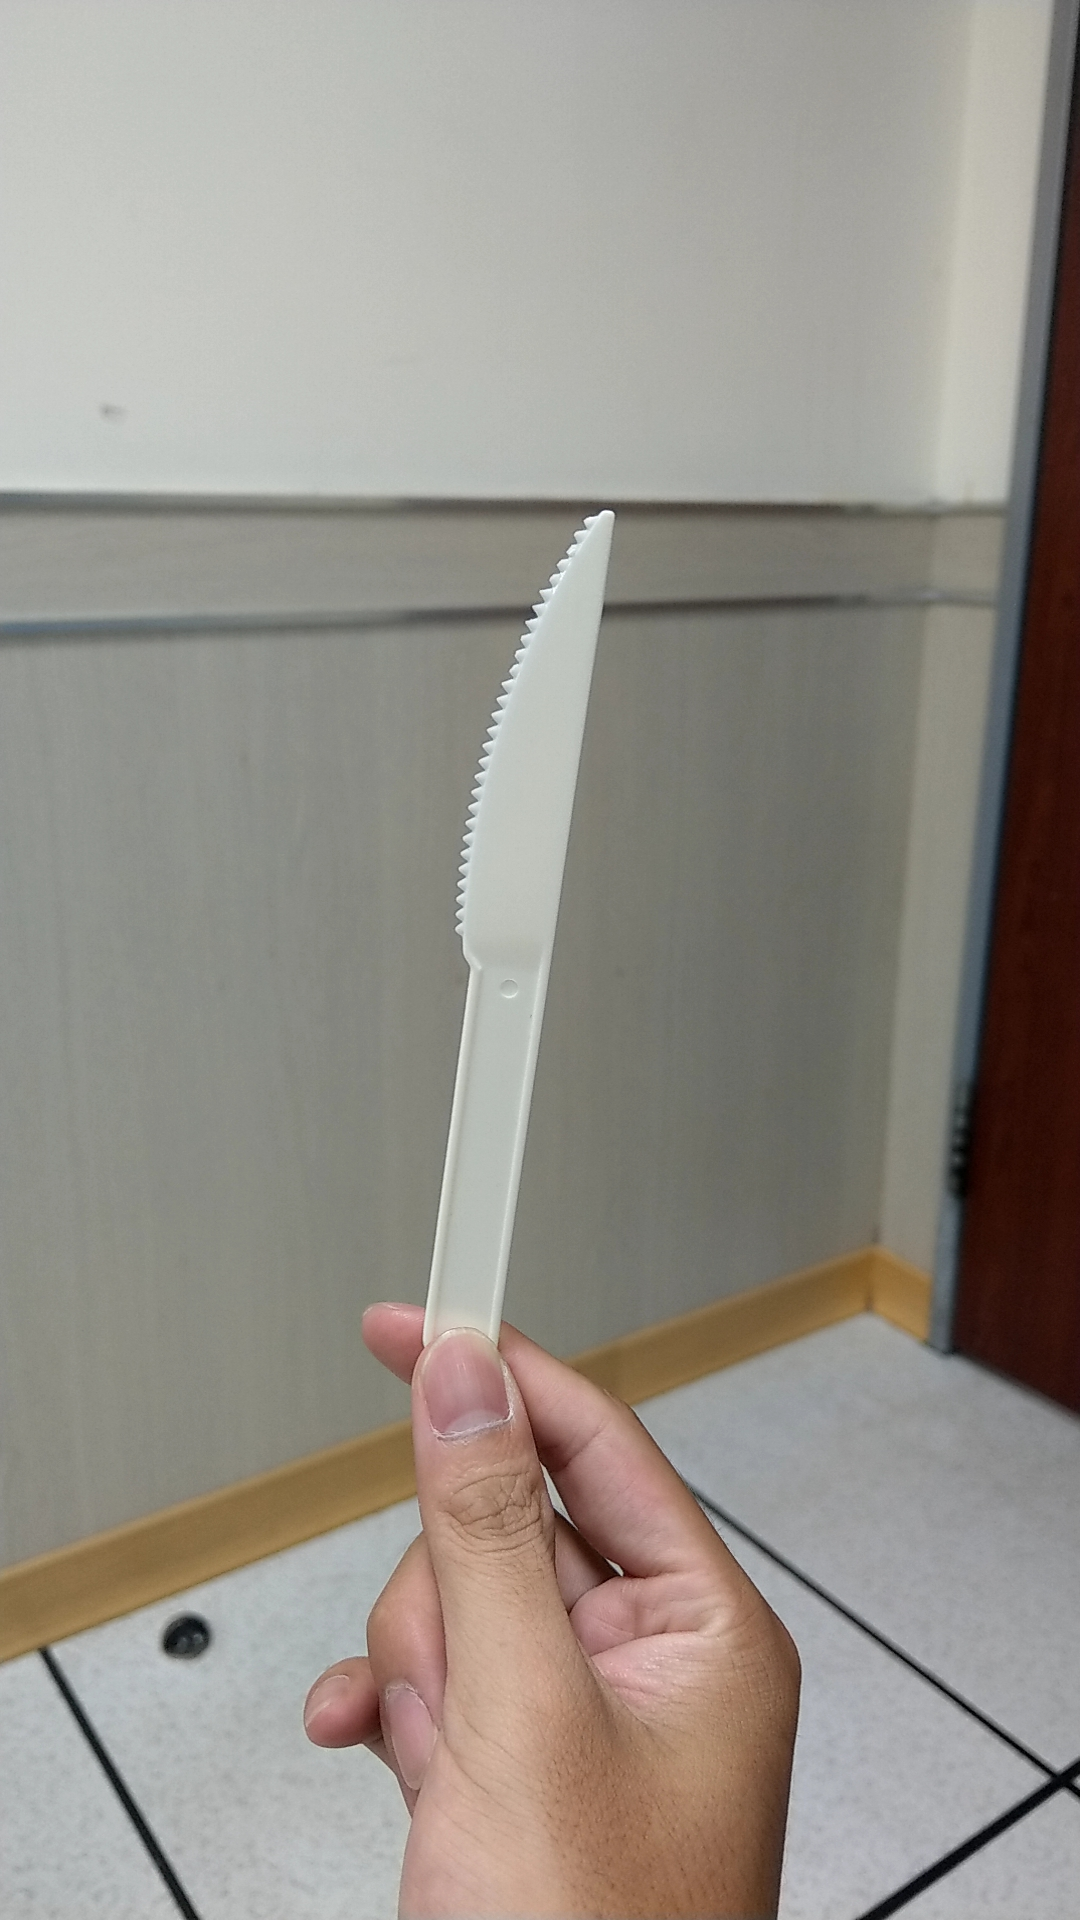knife: (392, 506, 637, 1311)
